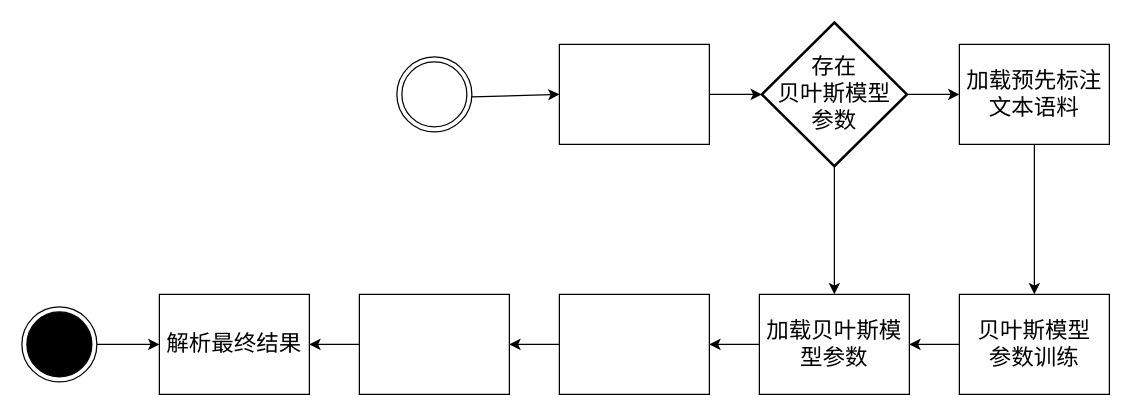
This 1131x416 diagram has some shape labels left out. Here are the shapes that lost their labels. From the top down, the centre of each, then its label:
At point 633,93: "加载中文时间表达式 解析模块配置".
At point 433,343: "冲突消解".
At point 633,343: "组件语法分析树".
